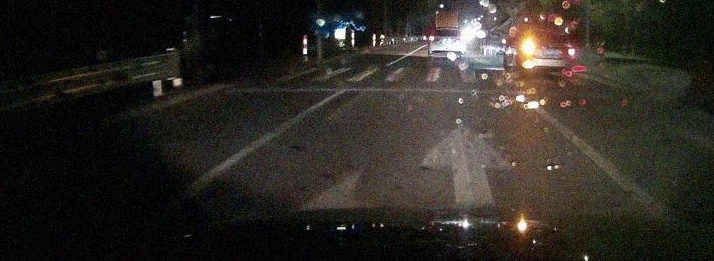L_light: (520, 40, 536, 55), (428, 35, 441, 41)
R_light: (567, 46, 576, 57), (452, 36, 464, 42)
T_light: (544, 30, 554, 34), (443, 28, 451, 30)
night-left: (517, 26, 576, 72)
night-no: (427, 27, 466, 59)
